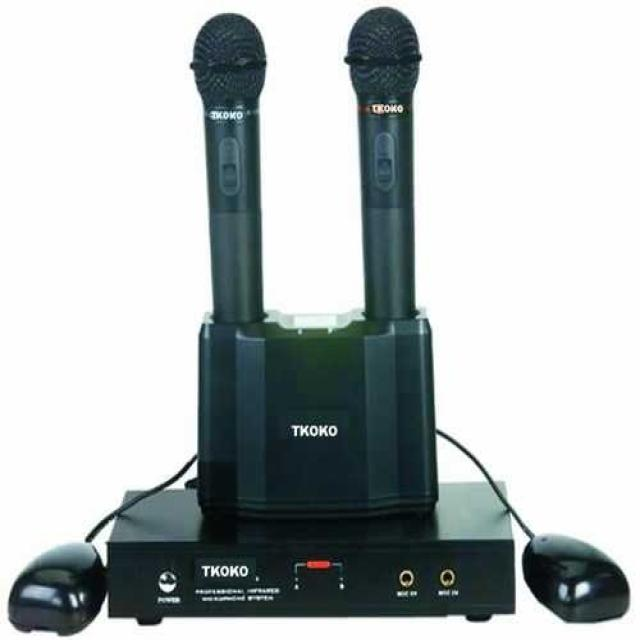microphone: (346, 7, 422, 323), (192, 13, 267, 325)
